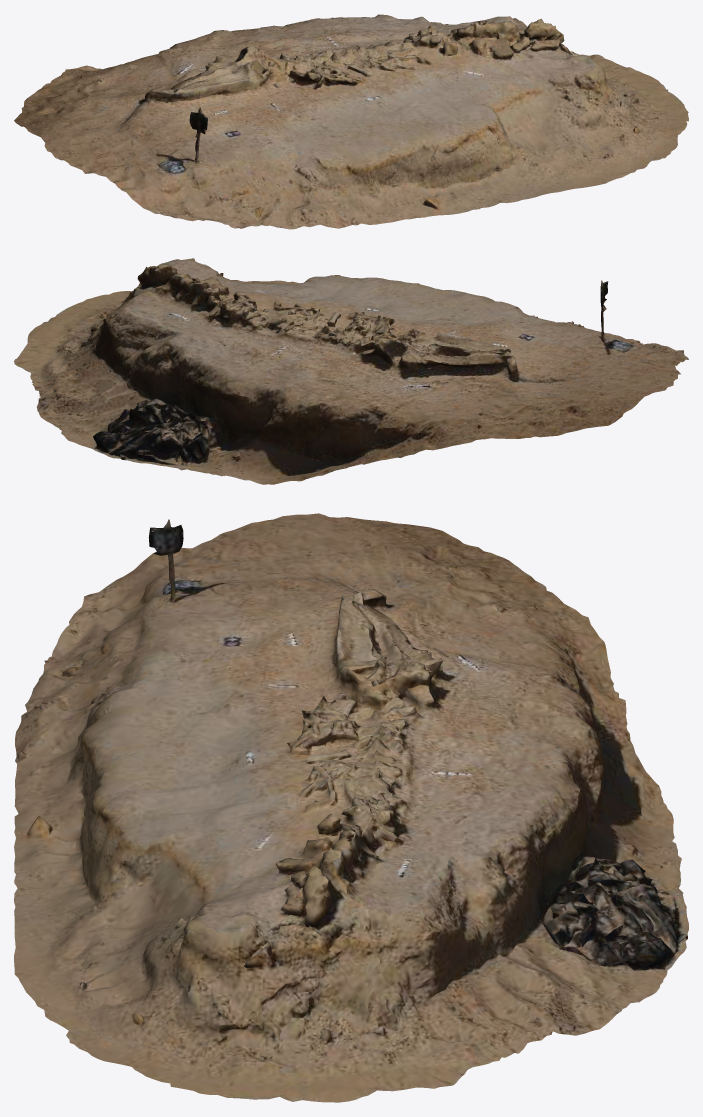
The model's file is whale.glb.
3 renders of one model, top to bottom at view 1: azimuth 30°, elevation 25°; view 2: azimuth 150°, elevation 25°; view 3: azimuth 270°, elevation 25°, orthographic. The views are drawn at different scales.
Size of the model in its own units: 8971 by 1876 by 5575.
1 material, 1 textured.
